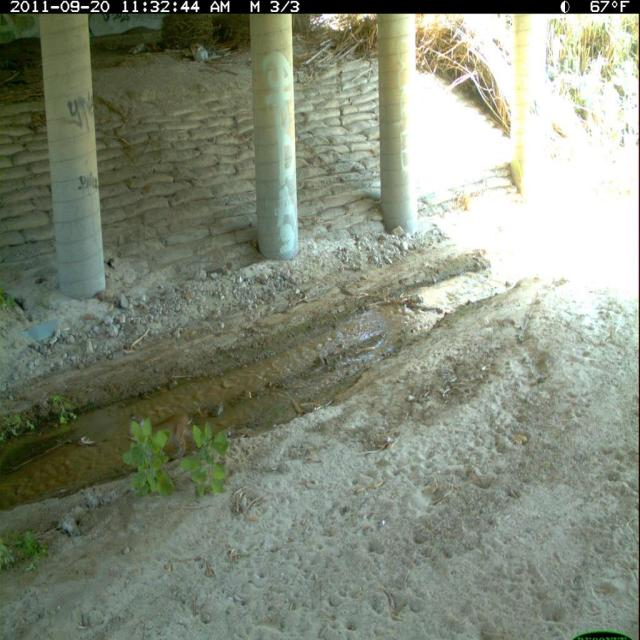bobcat: (124, 408, 198, 465), (168, 31, 234, 86)
